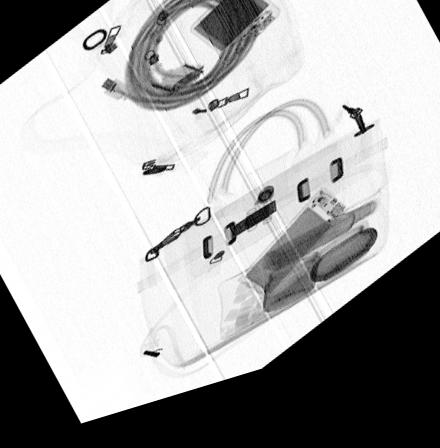Powerbank: (235, 205, 350, 315), (188, 0, 281, 79)
